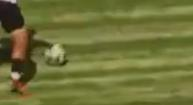ball: (42, 41, 69, 68)
